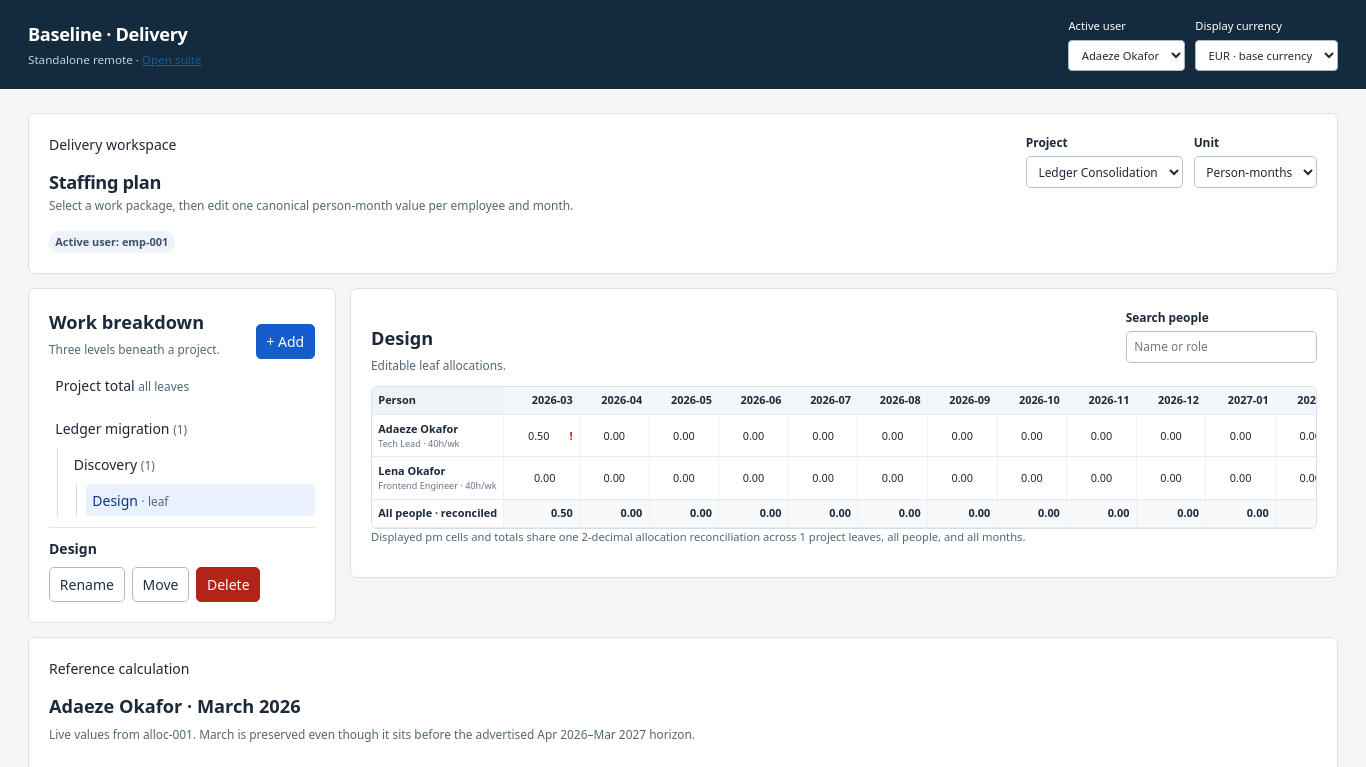
Scenario: standalone adapters and hosted integration › disables cost entry when the selected month has no rate coverage
The image size is (1366, 767).
Select "Cost" in the dropdown labelled "Unit": (1255, 172) [1194, 156, 1317, 188]
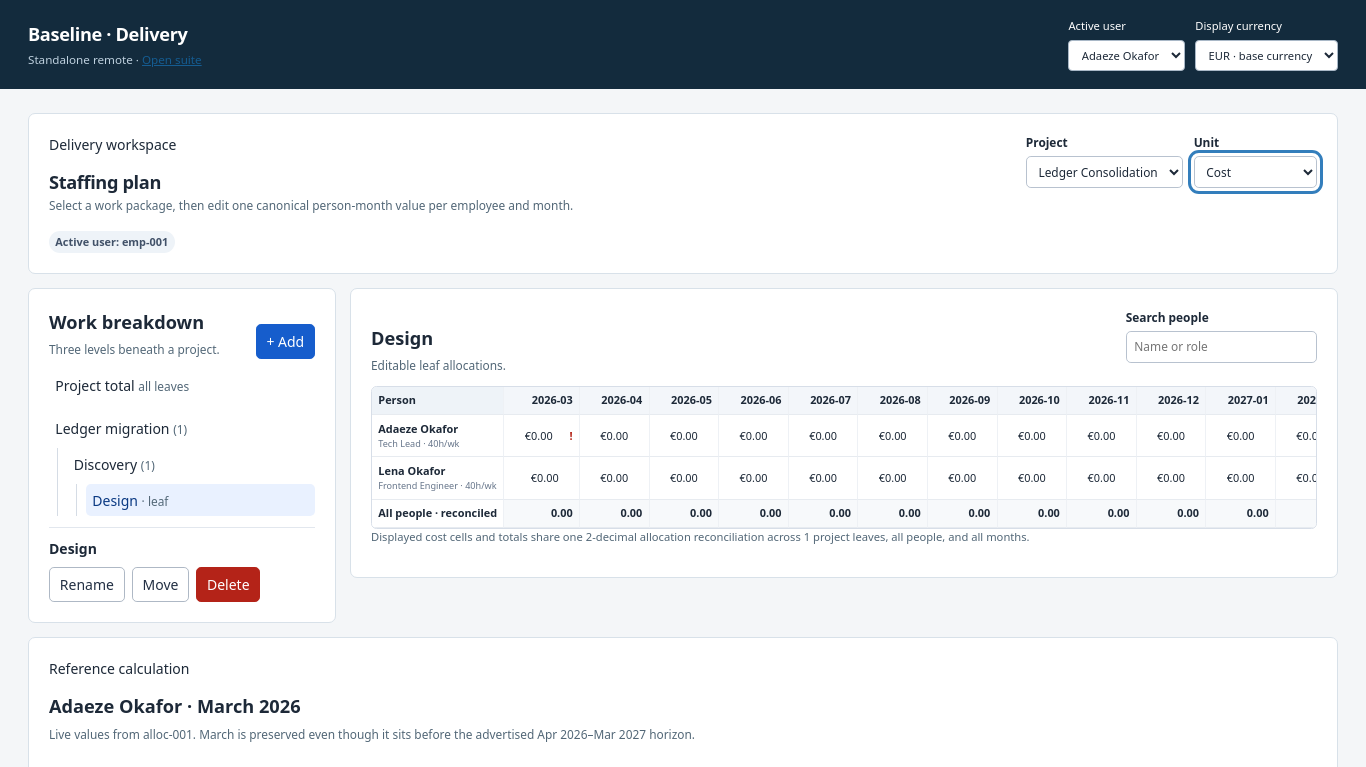
Click the 1st button "€0.00": (539, 436) [511, 423, 567, 448]
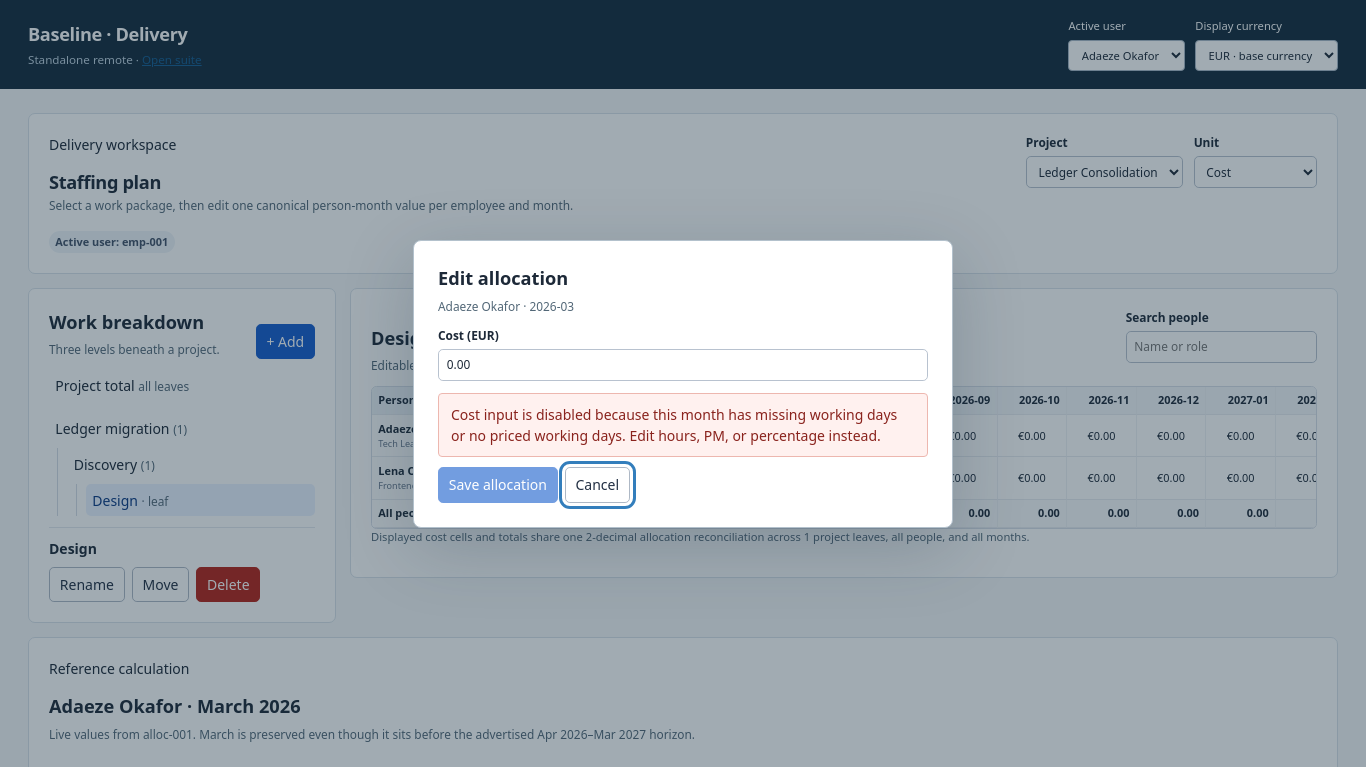
Check: the number field is disabled, box [438, 349, 928, 381]
Check: the button "Save allocation" is disabled, box [438, 467, 558, 503]
Check: the text "Cost input is disabled" is shown, box [451, 405, 897, 445]
